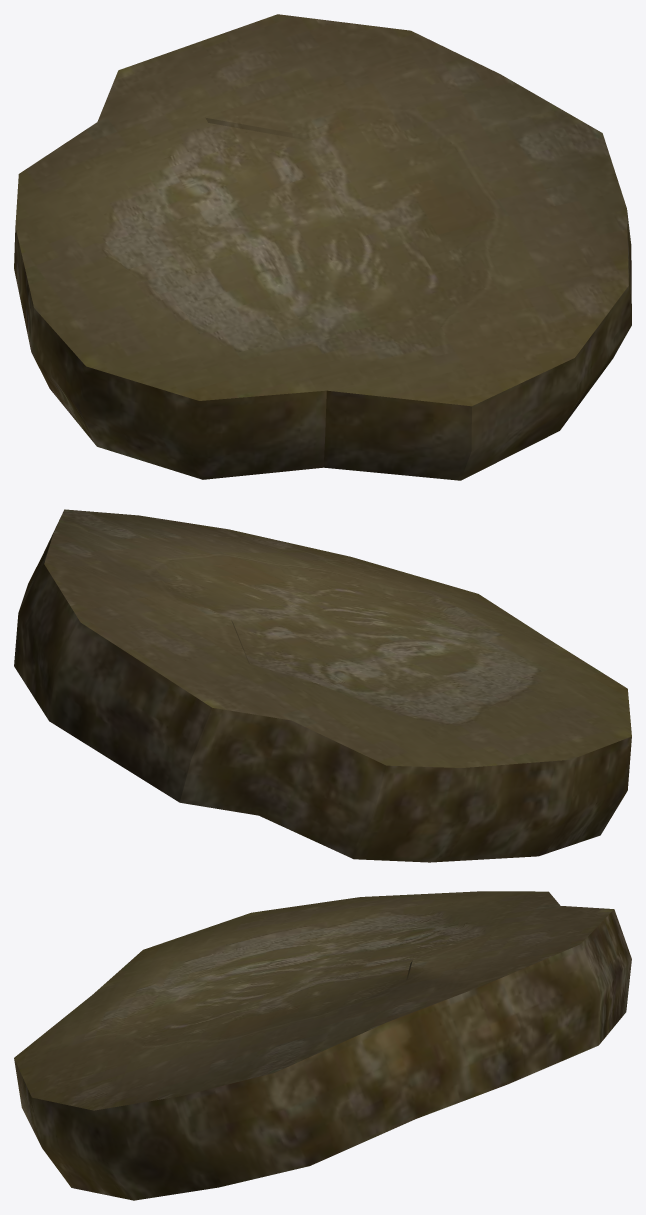
Rendered from Pickle.fbx.
3 renders of one model, top to bottom at view 1: azimuth 30°, elevation 25°; view 2: azimuth 150°, elevation 25°; view 3: azimuth 270°, elevation 25°, orthographic. The views are drawn at different scales.
Parts seen in each view (by area): view 1: pickle_1; view 2: pickle_1; view 3: pickle_1.
Part boxes in pixels (bbox=[...]): pickle_1: bbox=[14, 14, 631, 480]; pickle_1: bbox=[14, 509, 631, 862]; pickle_1: bbox=[14, 891, 631, 1200].
Bounding box in the file's own units: 1.84 × 0.8114 × 1.84.
